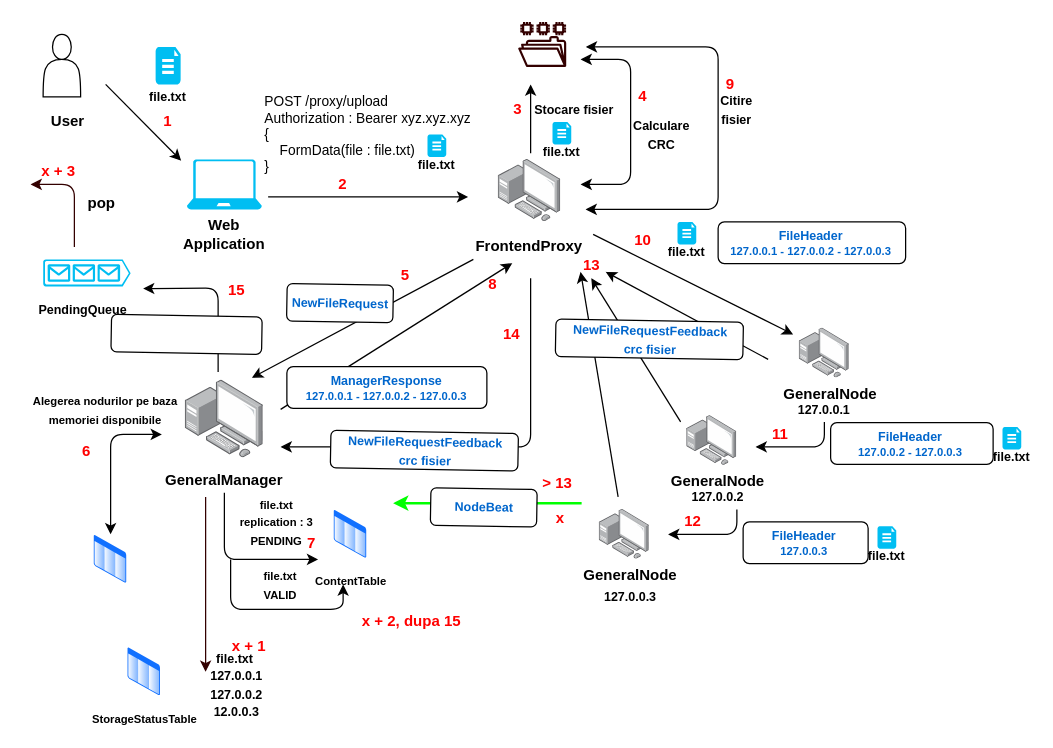
The diagram is 1053 pixels wide and 748 high, and some of its shapes have lost their labels. The box of each missing label's shape, as (x1, y1, x2, y2) in pixels:
NodeStorageQuantityTable: (92, 534, 128, 584)
PendingQueueRegister file.txt: (110, 313, 262, 354)
